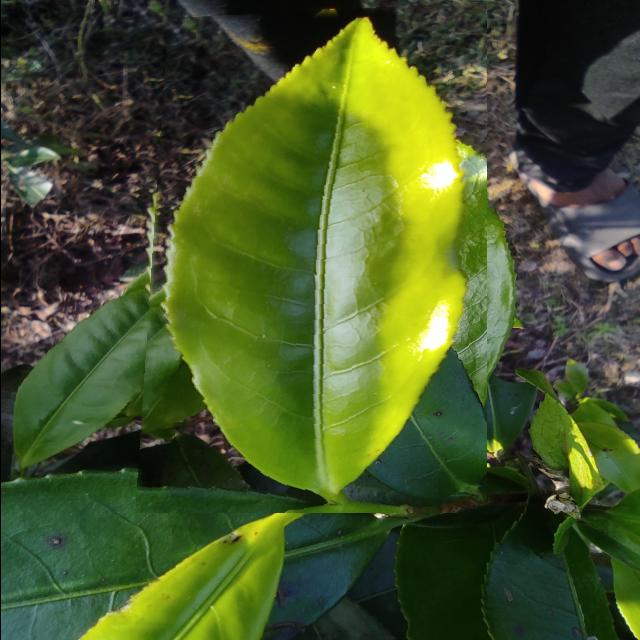Category B(2-4 days): (133, 0, 486, 513)
